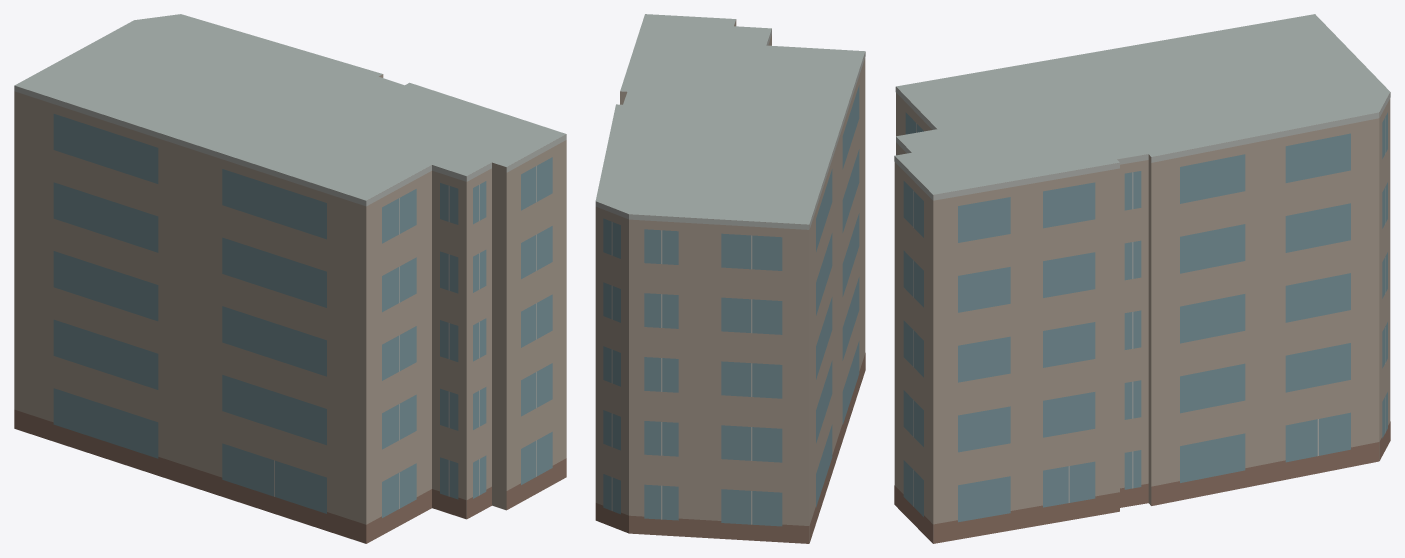
The model's file is survey-upis-32750851.glb.
3 renders of one model, left to right at view 1: azimuth 30°, elevation 25°; view 2: azimuth 150°, elevation 25°; view 3: azimuth 270°, elevation 25°, orthographic. The views are drawn at different scales.
Visible parts, largest first — view 1: survey-upis-32750851.tmp; view 2: survey-upis-32750851.tmp; view 3: survey-upis-32750851.tmp.
Boxes of the visible parts, x1=… form: survey-upis-32750851.tmp: x1=14, y1=14, x2=566, y2=543; survey-upis-32750851.tmp: x1=595, y1=14, x2=865, y2=543; survey-upis-32750851.tmp: x1=894, y1=14, x2=1390, y2=543.
Bounding box in the file's own units: 16.27 × 14.62 × 18.84.
